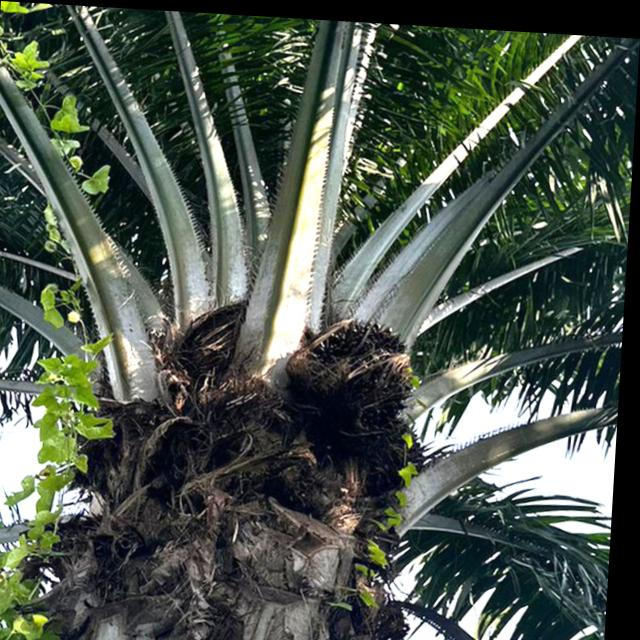unripe: (279, 298, 432, 447)
